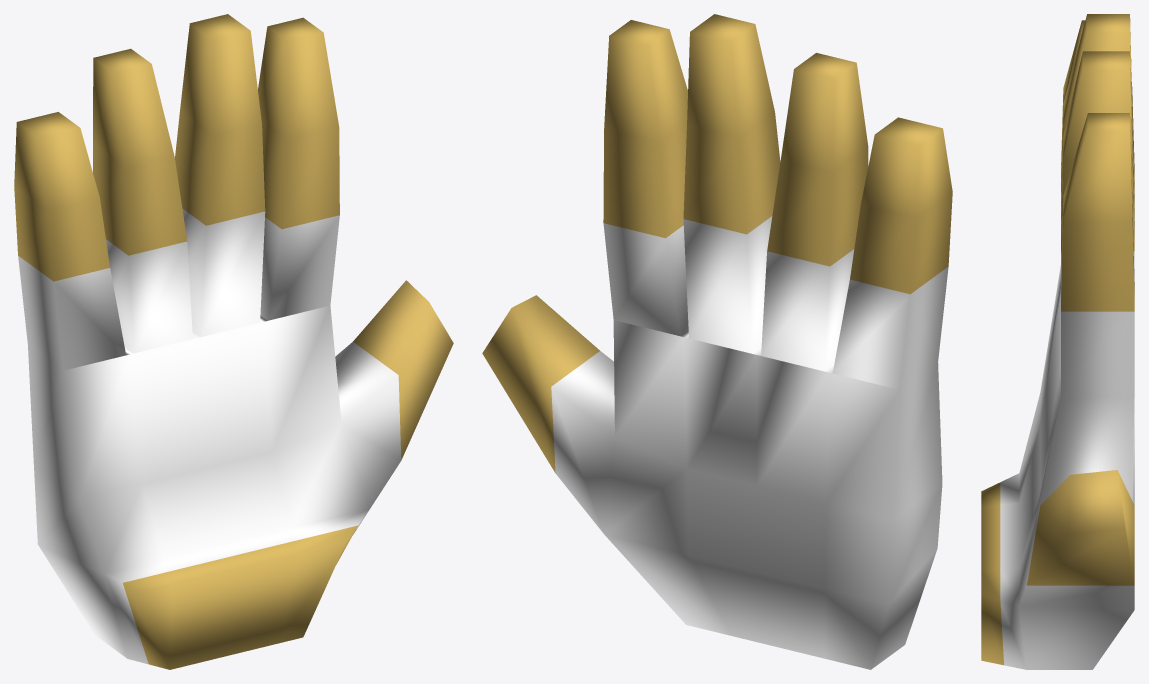
Rendered from hand.glb.
3 views of the same model, side by side, from view 1: azimuth 30°, elevation 25°; view 2: azimuth 150°, elevation 25°; view 3: azimuth 270°, elevation 25° (orthographic). The views are drawn at different scales.
Parts seen in each view (by area): view 1: Cube; view 2: Cube; view 3: Cube.
Part boxes in pixels (x1,y1,x2,y2): Cube: (14, 14, 453, 669); Cube: (482, 14, 952, 669); Cube: (981, 14, 1134, 669).
Bounding box in the file's own units: 3.23 × 4.31 × 1.02.
Materials: 1 (1 with a texture image).
